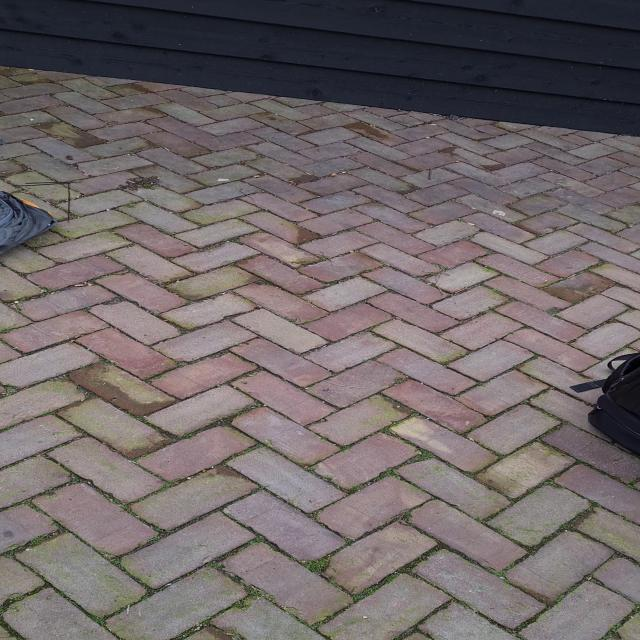backpack: (581, 347, 640, 464), (0, 189, 55, 266)
